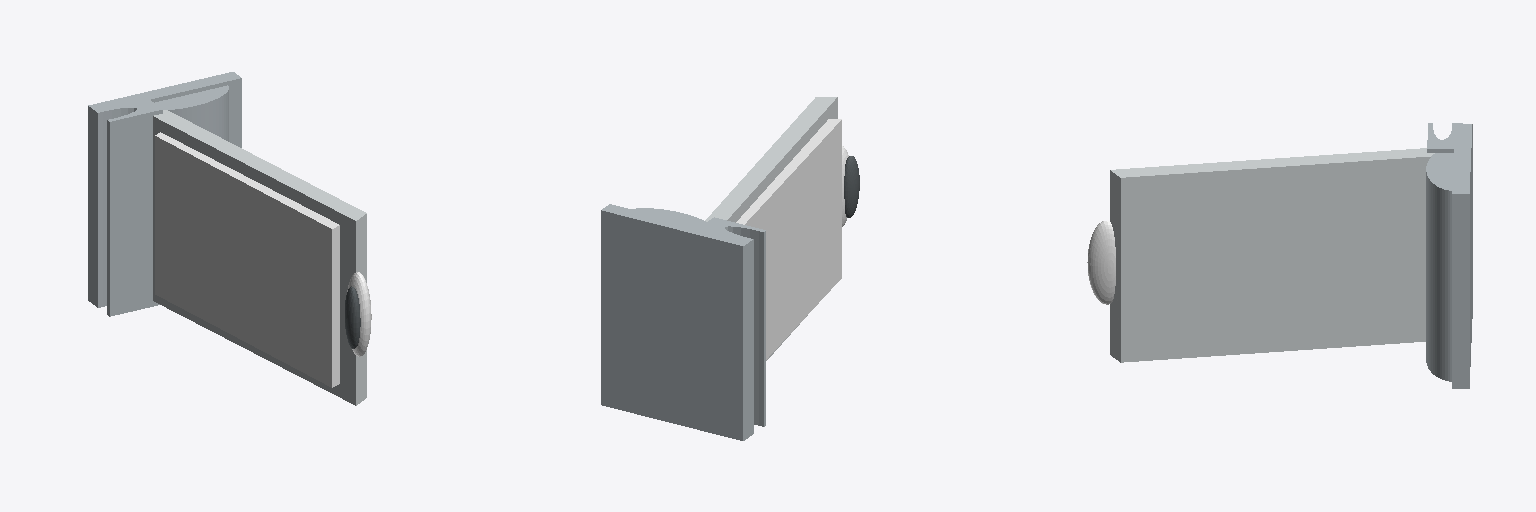
The model's file is tinker.obj.
3 renders of one model, left to right at view 1: azimuth 30°, elevation 25°; view 2: azimuth 150°, elevation 25°; view 3: azimuth 270°, elevation 25°, orthographic.
Parts seen in each view (by area): view 1: obj_0; view 2: obj_0; view 3: obj_0.
Part boxes in pixels (bbox=[...]): obj_0: bbox=[88, 72, 371, 405]; obj_0: bbox=[601, 97, 859, 440]; obj_0: bbox=[1087, 123, 1472, 388].
Size of the model in its own units: 75.34 by 97 by 174.